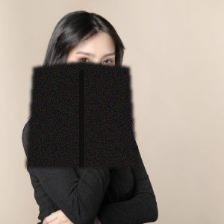Cadar_Niqab: (26, 8, 136, 167)
